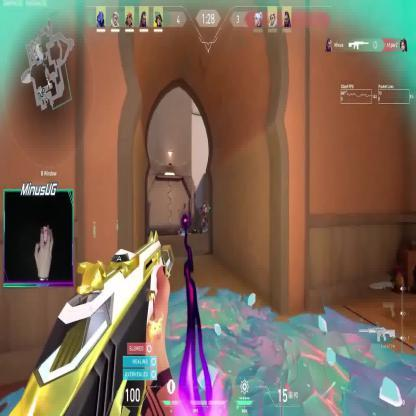enemy: (200, 202, 210, 231)
enemy_head: (202, 202, 206, 210)
